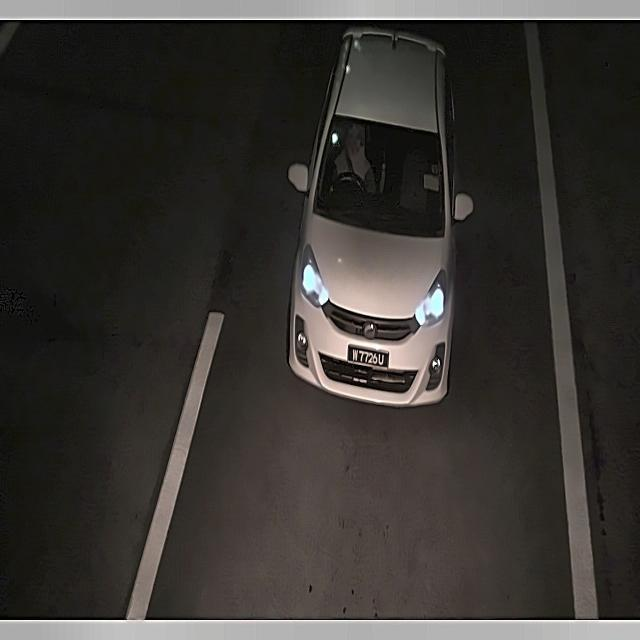car: (342, 329, 396, 374)
